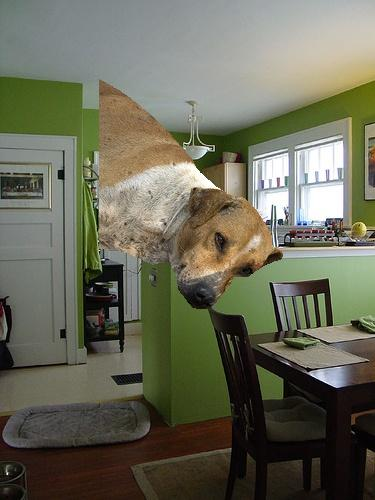tampered: (100, 80, 283, 309)
